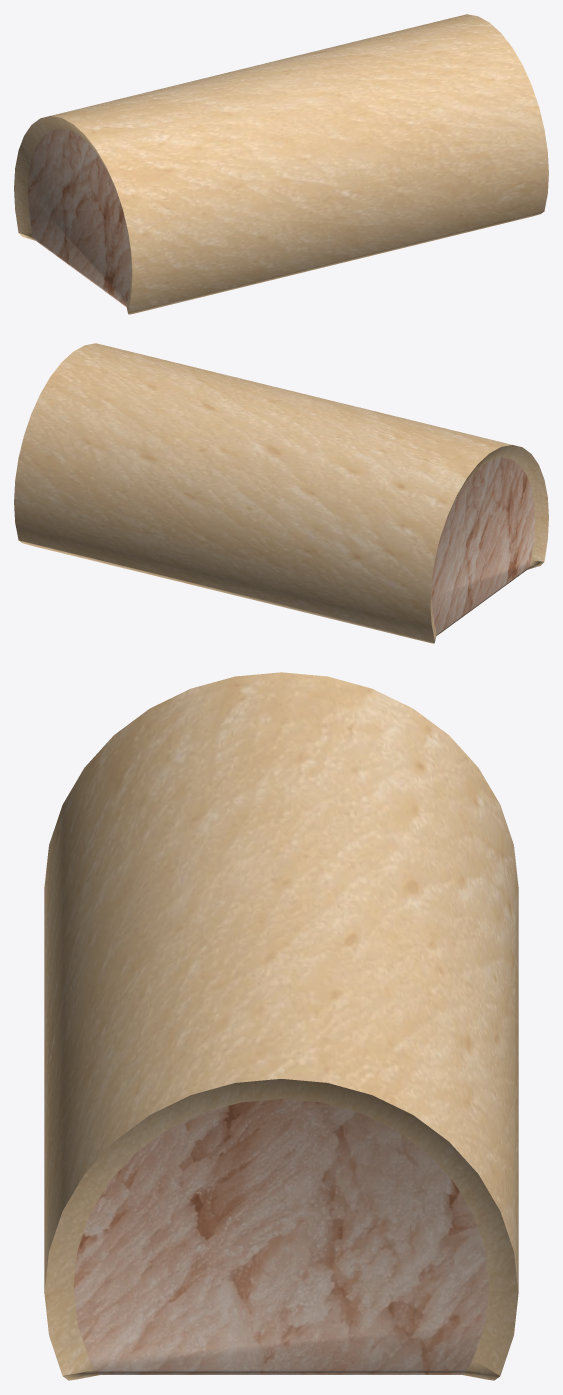
Rendered from pork.fbx.
3 renders of one model, top to bottom at view 1: azimuth 30°, elevation 25°; view 2: azimuth 150°, elevation 25°; view 3: azimuth 270°, elevation 25°, orthographic. The views are drawn at different scales.
Parts seen in each view (by area): view 1: Thit Chan Gio song.001; view 2: Thit Chan Gio song.001; view 3: Thit Chan Gio song.001.
Part boxes in pixels (bbox=[...]): Thit Chan Gio song.001: bbox=[14, 14, 548, 314]; Thit Chan Gio song.001: bbox=[14, 343, 548, 643]; Thit Chan Gio song.001: bbox=[44, 672, 518, 1380].
Size of the model in its own units: 18.5 by 6.59 by 9.12.
1 material, 1 textured.
